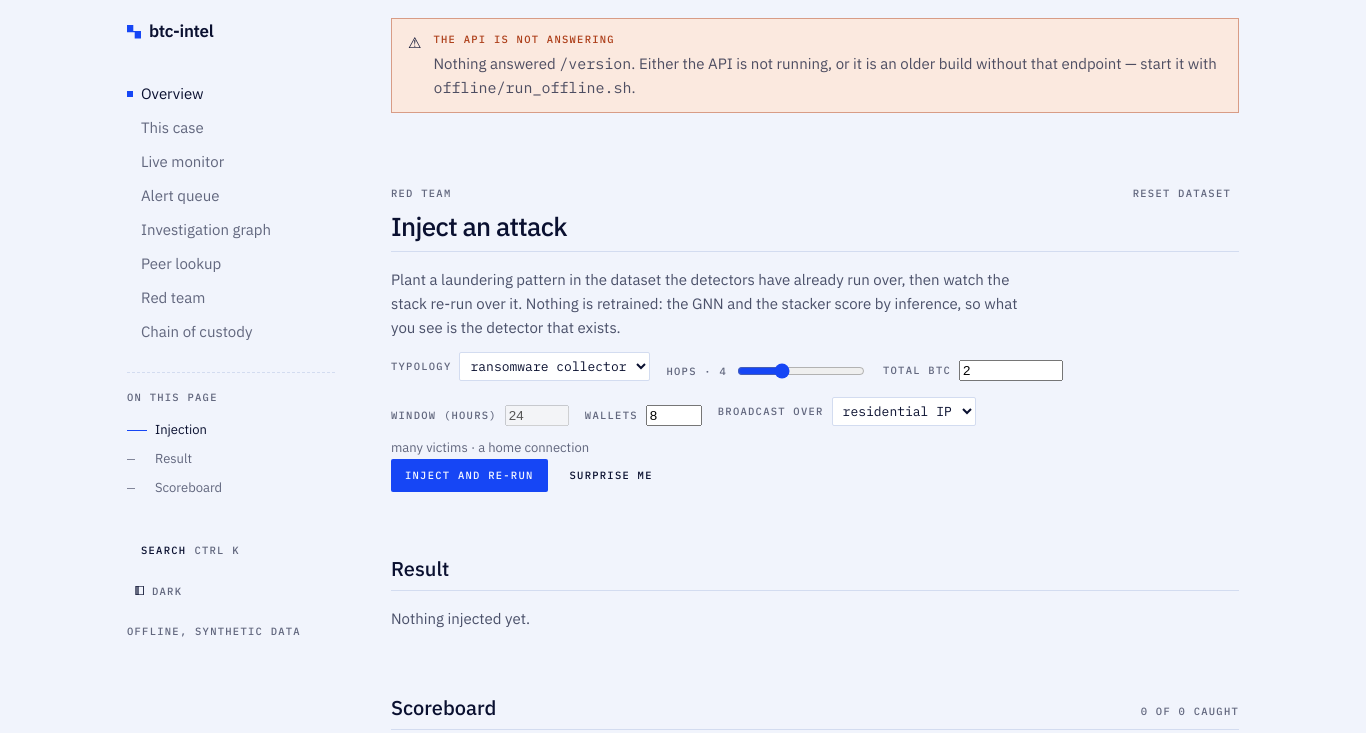
Test: the red-team page › links a detection into the graph with the injected wallets marked
Click the button "Inject and re-run". click: (469, 476)
box: [391,459,548,492]
(page scrolled)
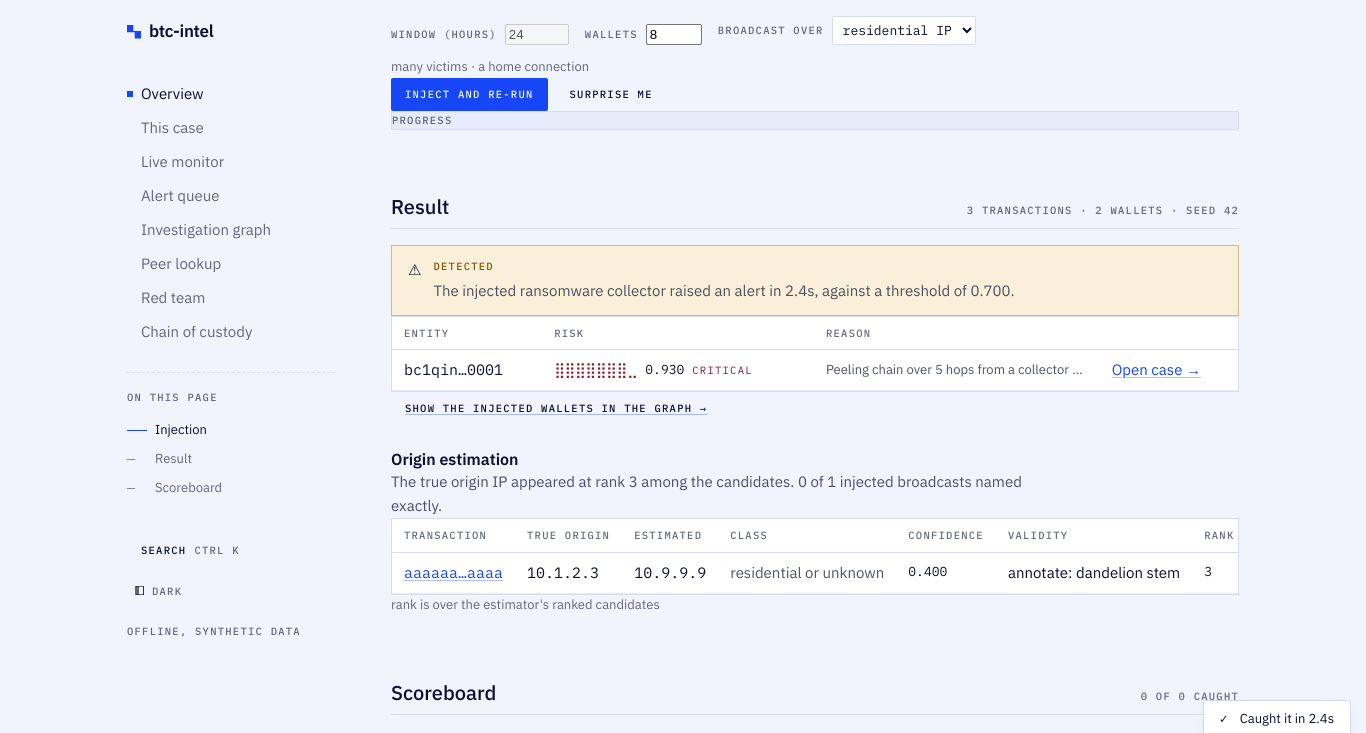
Expected: the text "Peeling chain over 5 hops from a collector address." is shown, [814,350,1100,391]
